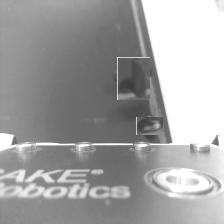Door Handle: (114, 60, 153, 97)
Lock: (139, 115, 161, 138)
